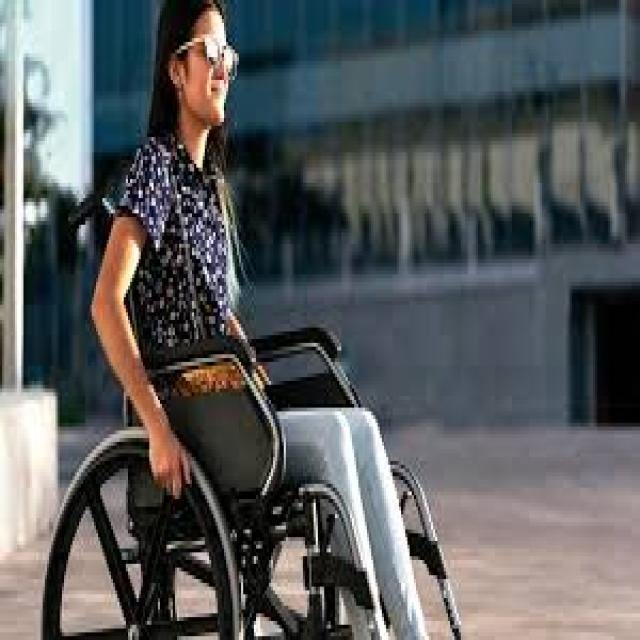wheelchairs: (39, 194, 474, 640)
